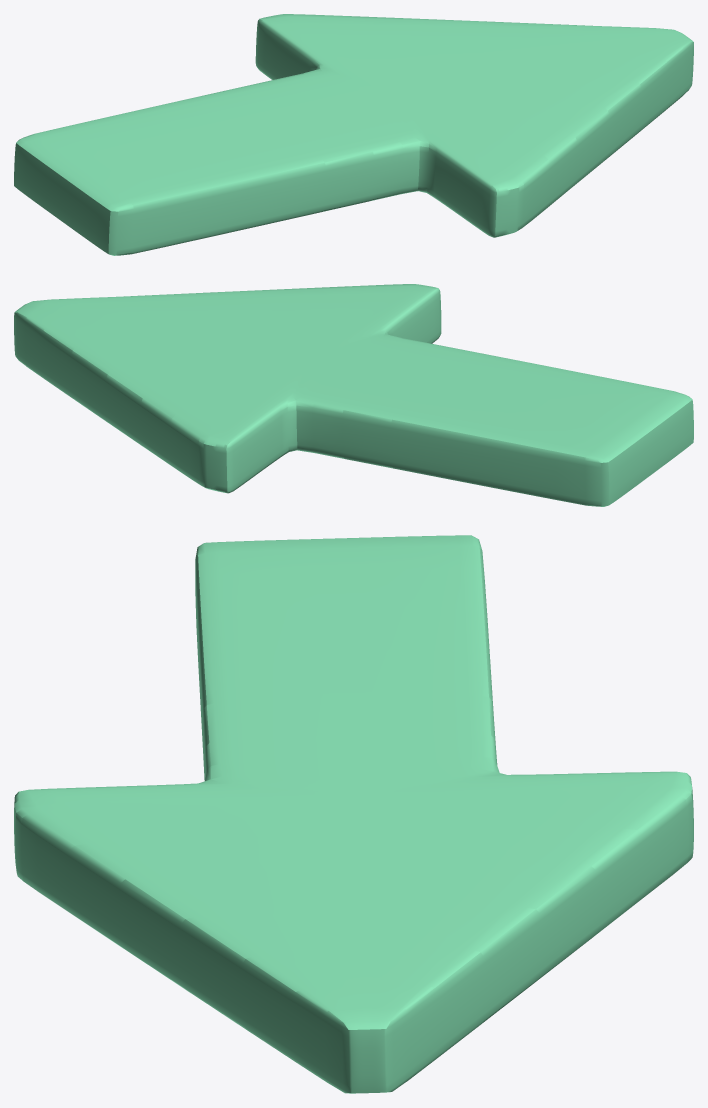
The model's file is arrow.gltf.
The picture shows the model from 3 angles, top to bottom: view 1: azimuth 30°, elevation 25°; view 2: azimuth 150°, elevation 25°; view 3: azimuth 270°, elevation 25°; orthographic projection. The views are drawn at different scales.
Parts seen in each view (by area): view 1: Pin; view 2: Pin; view 3: Pin.
Part boxes in pixels (box(x1,y1,x2,y2)): Pin: box(14, 14, 693, 255); Pin: box(14, 284, 693, 506); Pin: box(14, 535, 693, 1093).
Bounding box in the file's own units: 0.0869 × 0.0096 × 0.0542.
